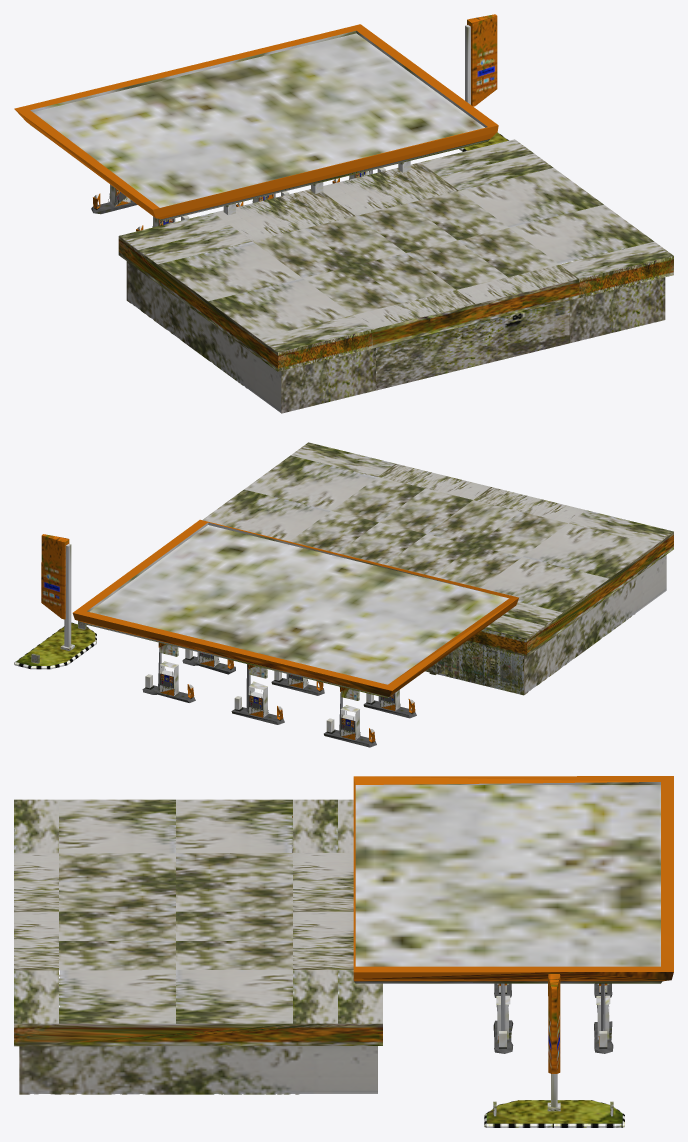
File: gas03.001 (1).fbx
3 views of the same model, one above another, from view 1: azimuth 30°, elevation 25°; view 2: azimuth 150°, elevation 25°; view 3: azimuth 270°, elevation 25° (orthographic). The views are drawn at different scales.
Parts seen in each view (by area): view 1: gas03_001__1_, gas02_001__1_, gas00_001__1_; view 2: gas03_001__1_, gas02_001__1_, gas00_001__1_; view 3: gas03_001__1_, gas02_001__1_, gas00_001__1_.
Boxes of the visible parts, x1=… form: gas03_001__1_: x1=118, y1=139, x2=673, y2=413; gas02_001__1_: x1=14, y1=24, x2=498, y2=231; gas00_001__1_: x1=459, y1=14, x2=508, y2=151; gas03_001__1_: x1=202, y1=442, x2=673, y2=695; gas02_001__1_: x1=72, y1=519, x2=518, y2=747; gas00_001__1_: x1=14, y1=534, x2=96, y2=669; gas03_001__1_: x1=14, y1=799, x2=382, y2=1094; gas02_001__1_: x1=353, y1=776, x2=673, y2=1053; gas00_001__1_: x1=484, y1=974, x2=624, y2=1127.
Size of the model in its own units: 6305 by 1613 by 6863.
